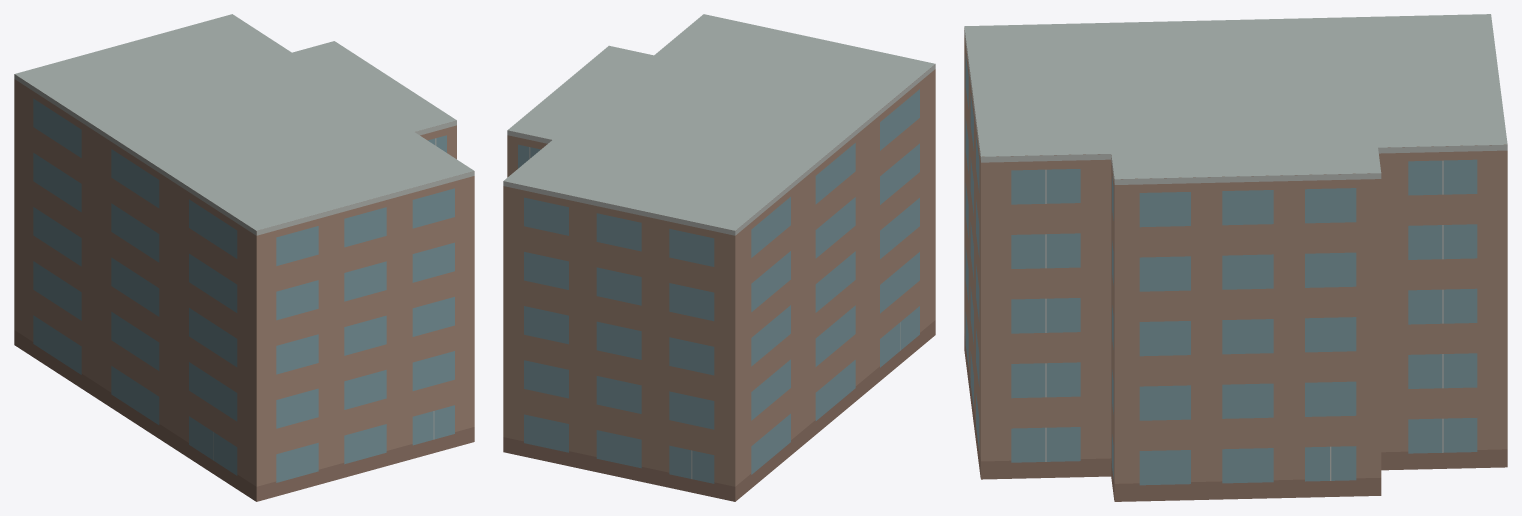
The model's file is survey-upis-32723121.glb.
The picture shows the model from 3 angles, left to right: view 1: azimuth 30°, elevation 25°; view 2: azimuth 150°, elevation 25°; view 3: azimuth 270°, elevation 25°; orthographic projection. The views are drawn at different scales.
Parts seen in each view (by area): view 1: survey-upis-32723121.tmp; view 2: survey-upis-32723121.tmp; view 3: survey-upis-32723121.tmp.
Boxes of the visible parts, x1,y1,x2,y2 form: survey-upis-32723121.tmp: (14,14,474,501); survey-upis-32723121.tmp: (503,14,935,501); survey-upis-32723121.tmp: (964,14,1507,501).
Bounding box in the file's own units: 14.73 × 13.4 × 20.46.
